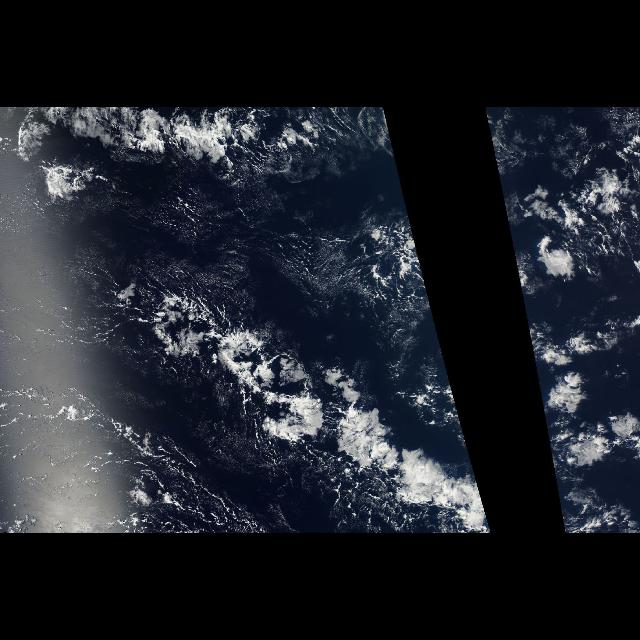Fish: (4, 107, 492, 533), (497, 170, 631, 528)
